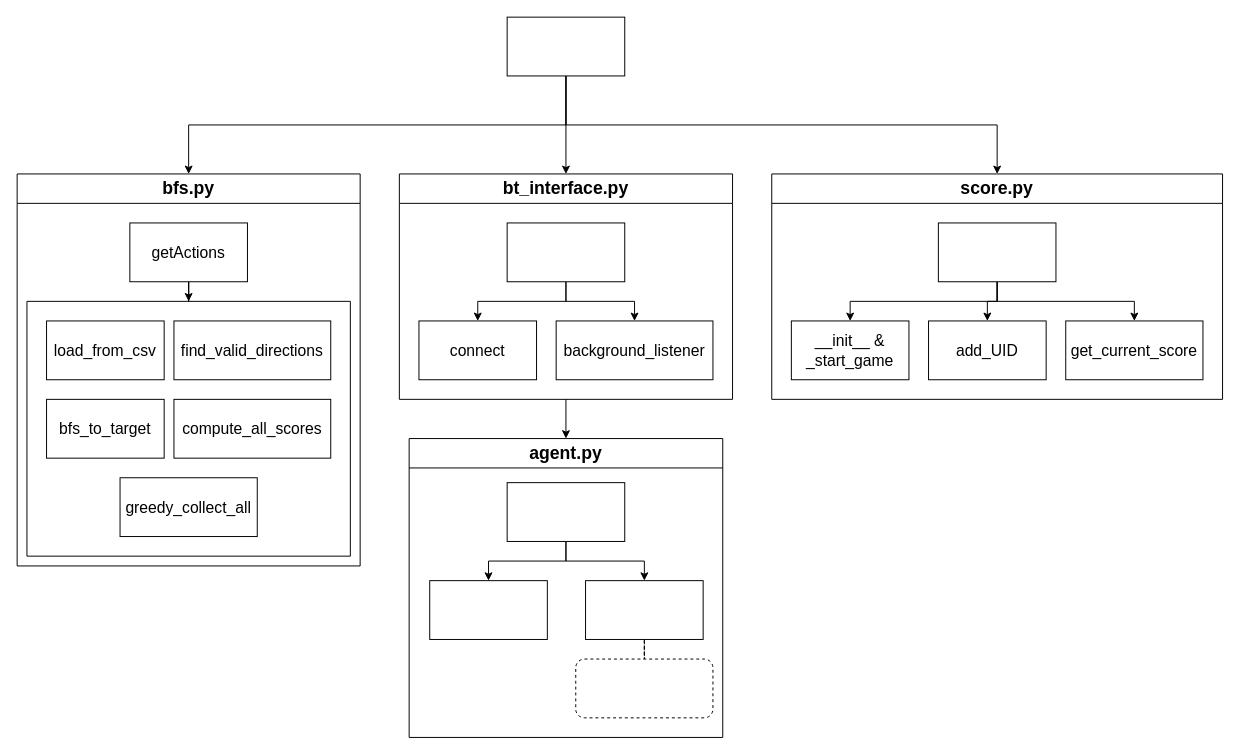
This 1240x755 diagram has some shape labels left out. The shapes that lost their labels are listed below. From the top down, each one's centre as x and y in pixels, then its label:
point 565,46: main.py
point 565,252: BTInterface
point 996,252: Scoreboard
point 565,511: Agent
point 488,609: __init__
point 644,609: on_message
point 644,688: Determine the response to the HM-10 message
